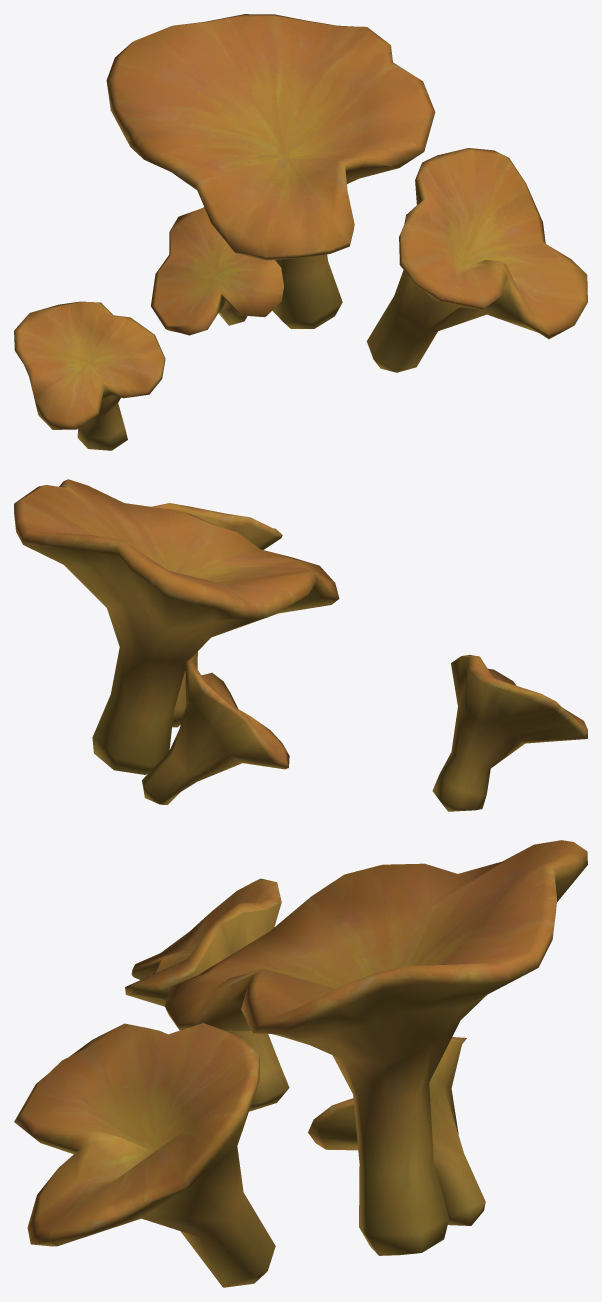
The model's file is Homeworld_Exterior_Xm_Plant_Tree_Mushroom_03_Lod0.fbx.
3 views of the same model, one above another, from view 1: azimuth 30°, elevation 25°; view 2: azimuth 150°, elevation 25°; view 3: azimuth 270°, elevation 25° (orthographic). The views are drawn at different scales.
Visible parts, largest first — view 1: Homeworld_Exterior_Xm_Plant_Tree_Mushroom_03_Lod0; view 2: Homeworld_Exterior_Xm_Plant_Tree_Mushroom_03_Lod0; view 3: Homeworld_Exterior_Xm_Plant_Tree_Mushroom_03_Lod0.
Boxes of the visible parts, x1,y1,x2,y2 form: Homeworld_Exterior_Xm_Plant_Tree_Mushroom_03_Lod0: (14,14,587,450); Homeworld_Exterior_Xm_Plant_Tree_Mushroom_03_Lod0: (14,479,587,811); Homeworld_Exterior_Xm_Plant_Tree_Mushroom_03_Lod0: (14,840,587,1287).
Size of the model in its own units: 2.99 by 1.61 by 2.19.
